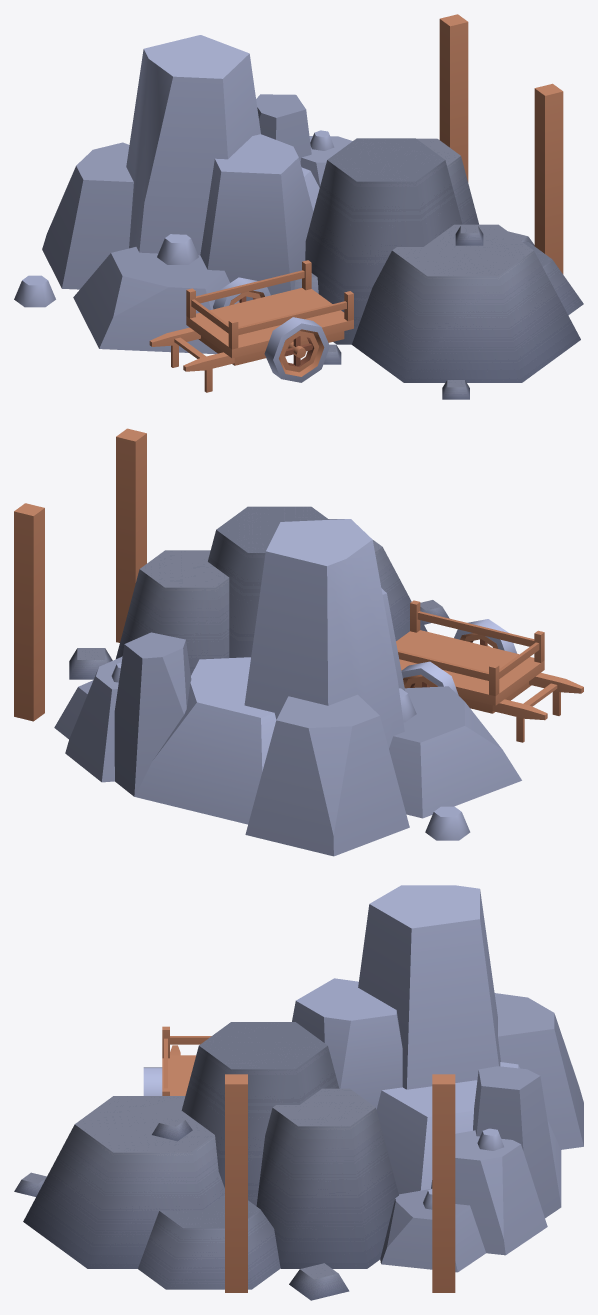
Rendered from quarry_3.glb.
3 views of the same model, one above another, from view 1: azimuth 30°, elevation 25°; view 2: azimuth 150°, elevation 25°; view 3: azimuth 270°, elevation 25° (orthographic). The views are drawn at different scales.
Parts seen in each view (by area): view 1: quarry_3; view 2: quarry_3; view 3: quarry_3.
Boxes of the visible parts, left/top/right/bottom form: quarry_3: left=14, top=14, right=583, bottom=399; quarry_3: left=14, top=428, right=583, bottom=856; quarry_3: left=14, top=885, right=583, bottom=1300.
Size of the model in its own units: 1.09 by 0.5233 by 1.11.
Materials: 5 (5 with a texture image).
